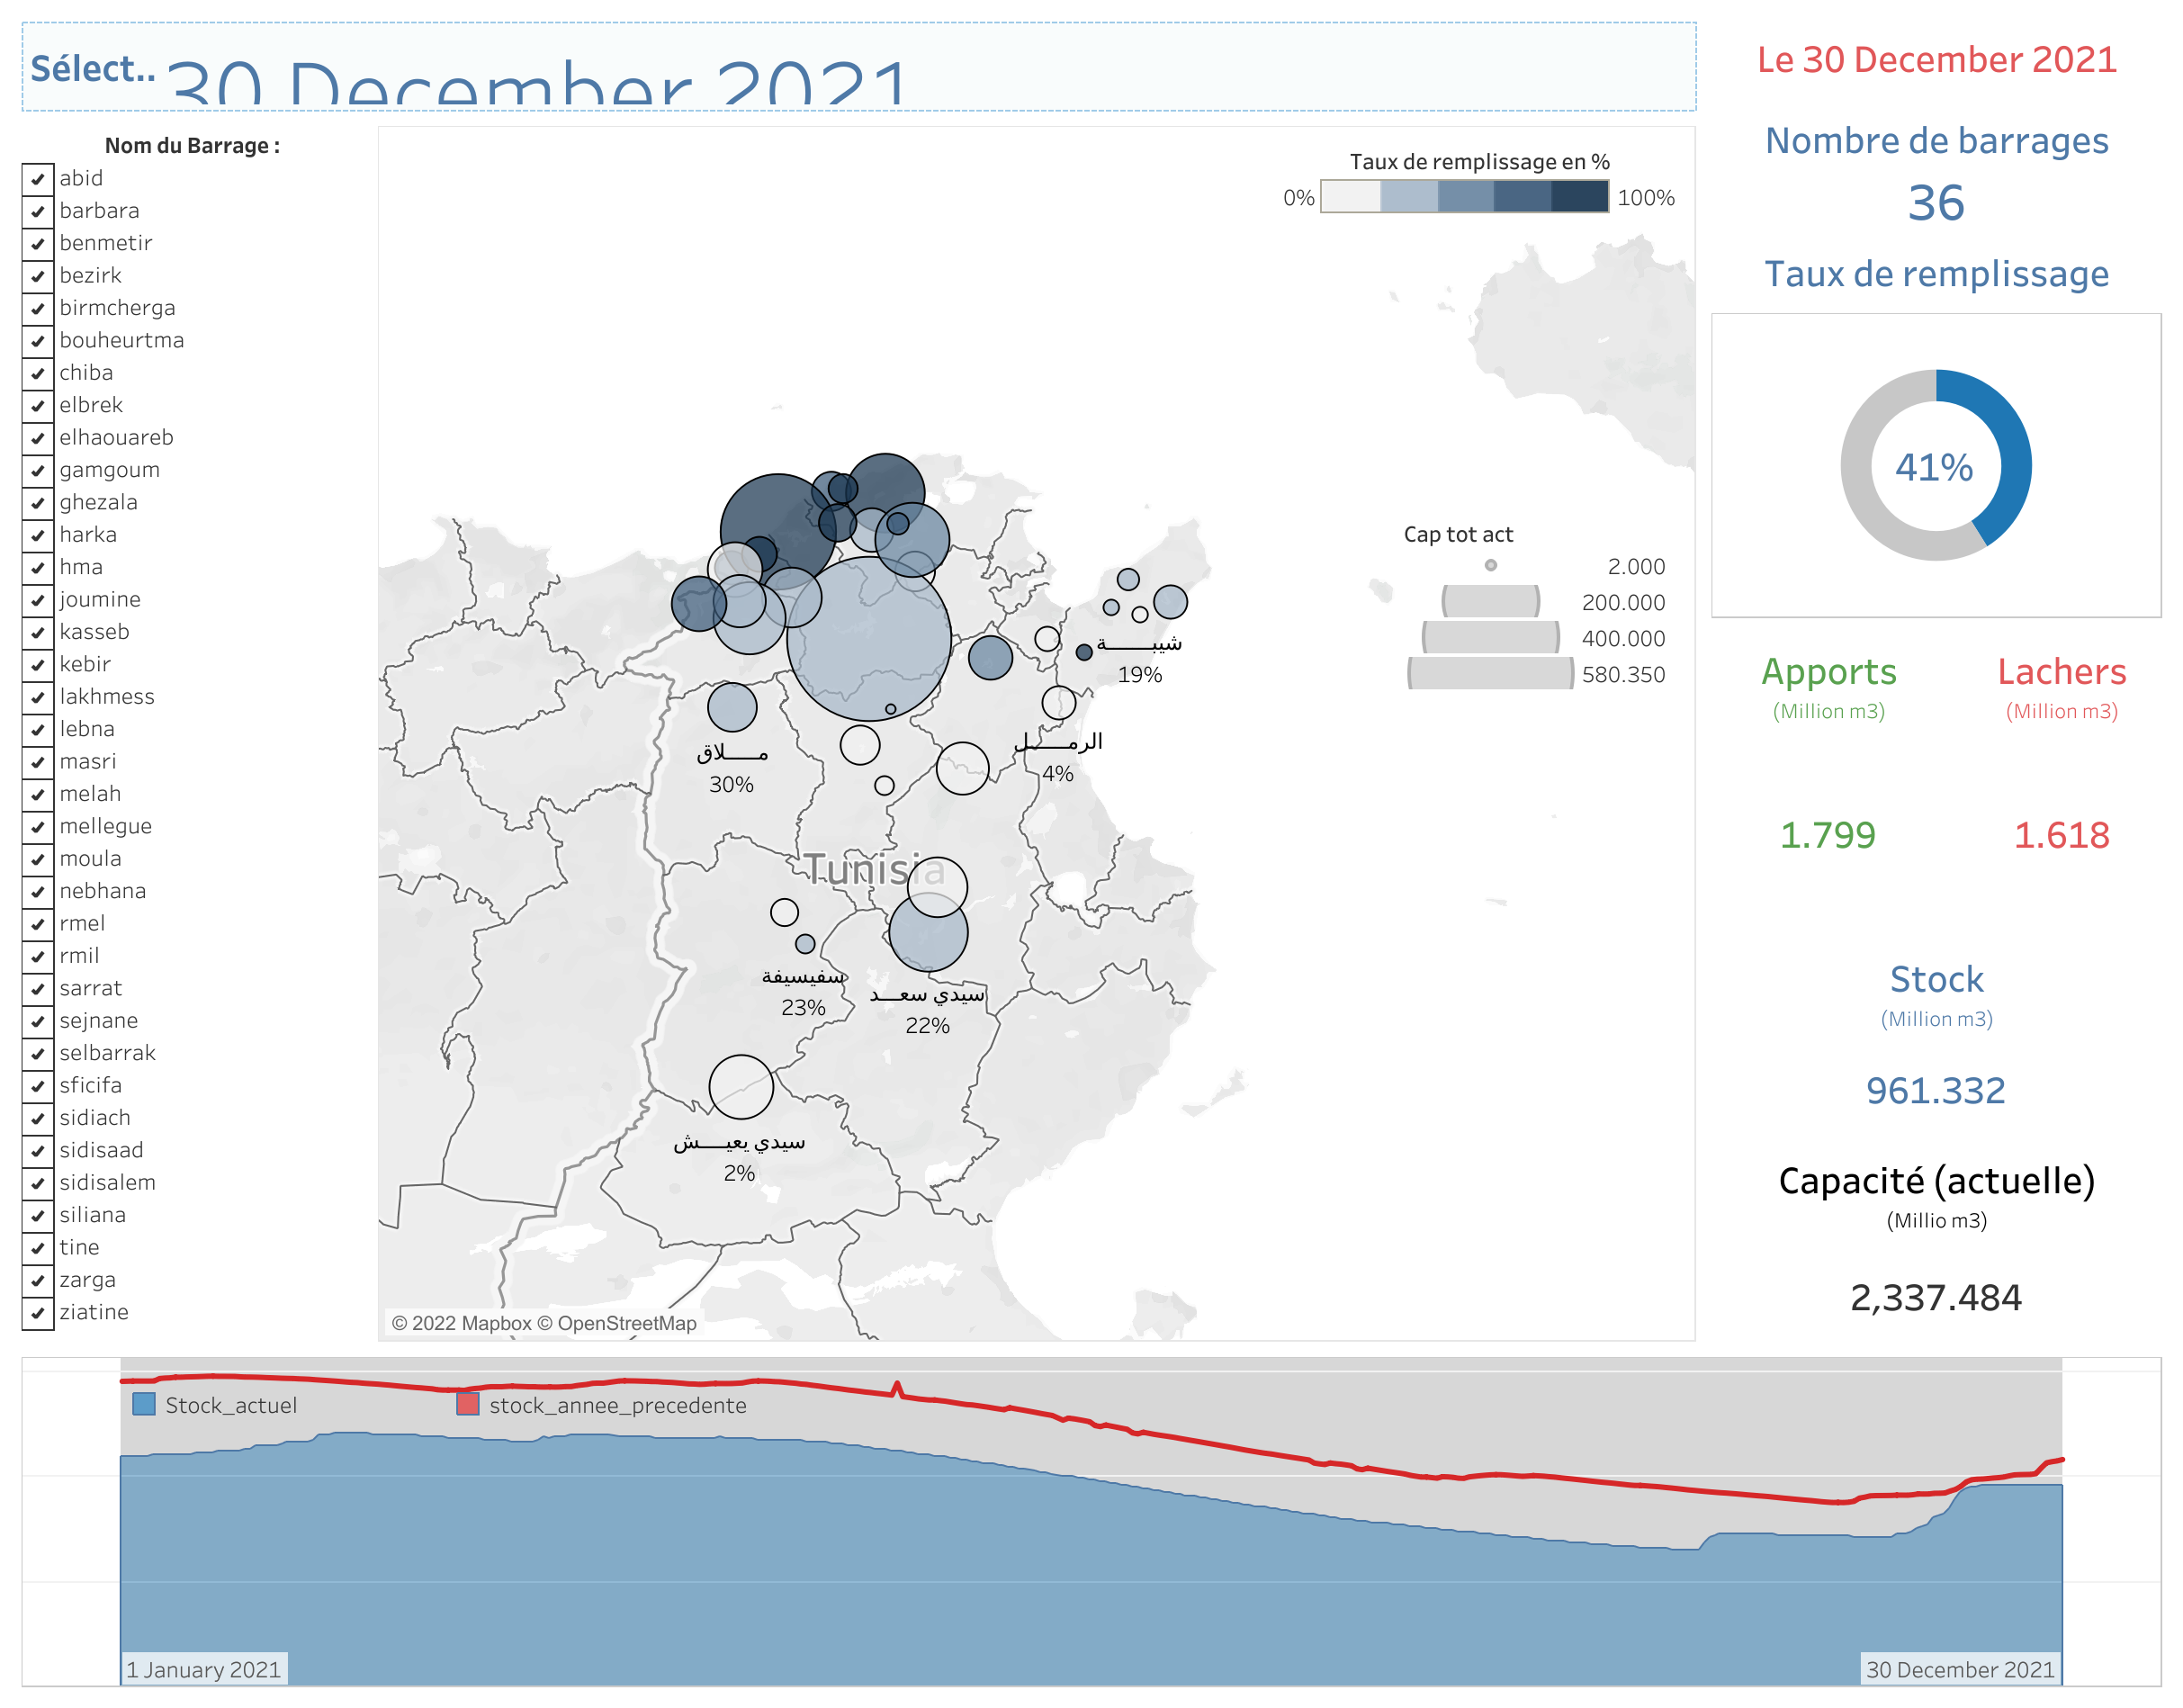

The page's visual inventory and layout, read from the dashboard file:
{"tool":"tableau","page":{"name":"dataViz","canvas":[1000,1000],"units":"permille","ordinal":0},"visuals":[{"type":"filter","title":"Feuille 9","param":"[federated.1tvb3q1153v3pz15prkfi0xzrimz].[md:Date:ok]","box":[6.4,8.4,773.5,60.7]},{"type":"worksheet","title":"Feuille 16","mark":"Automatic","box":[779.9,8.4,213.7,47.2]},{"type":"worksheet","title":"Feuille 8","mark":"Automatic","box":[779.9,55.6,213.7,78.1]},{"type":"filter","title":"Feuille 7","param":"[federated.1tvb3q1153v3pz15prkfi0xzrimz].[none:Nom_Fr:nk]","box":[6.4,69.1,163.1,720.4]},{"type":"worksheet","title":"Feuille 7","mark":"Automatic","rows":["Latitude"],"cols":["Longitude"],"box":[169.5,69.1,610.5,720.4]},{"type":"legend","title":"Feuille 7","param":"[federated.1tvb3q1153v3pz15prkfi0xzrimz].[usr:Calculation_1440307506579656705:qk","box":[583.9,80,187.1,61.1]},{"type":"worksheet","title":"Feuille 14","mark":"Pie","rows":["Calculation_1440307506607996942","1 (copie)"],"box":[779.9,133.7,213.7,232.6]},{"type":"legend","title":"Feuille 7","param":"[federated.1tvb3q1153v3pz15prkfi0xzrimz].[sum:Cap_tot_act:qk]","box":[641.6,300,130.2,156.8]},{"type":"worksheet","title":"Feuille 11","mark":"Automatic","box":[779.9,366.3,114.7,180]},{"type":"worksheet","title":"Feuille 12","mark":"Automatic","box":[894.6,366.3,99,180]},{"type":"worksheet","title":"Feuille 9","mark":"Automatic","box":[779.9,546.3,213.7,117.9]},{"type":"worksheet","title":"Feuille 10","mark":"Automatic","box":[779.9,664.2,213.7,125.3]},{"type":"worksheet","title":"Feuille 2","mark":"Area","rows":["Calculation_646266576773652480","Calculation_646266576773902337"],"cols":["Date"],"box":[6.4,789.5,987.2,202.1]},{"type":"legend","title":"Feuille 2","param":"[federated.1tvb3q1153v3pz15prkfi0xzrimz].[:Measure Names]","box":[57.6,810.5,324,25.3]}]}

Visuals, with their boxes on the dashboard's canvas, which has no fixed pixel size, in thousandths of its width and height (x1, y1, x2, y2). These are canvas units, not pixel positions in the 2183x1708 screenshot, which may show the page scaled, cropped or inside an application window:
"Feuille 9" filter: [x1=6, y1=8, x2=780, y2=69]
"Feuille 16" worksheet: [x1=780, y1=8, x2=994, y2=56]
"Feuille 8" worksheet: [x1=780, y1=56, x2=994, y2=134]
"Feuille 7" filter: [x1=6, y1=69, x2=170, y2=790]
"Feuille 7" worksheet: [x1=170, y1=69, x2=780, y2=790]
"Feuille 7" legend: [x1=584, y1=80, x2=771, y2=141]
"Feuille 14" worksheet (Pie marks): [x1=780, y1=134, x2=994, y2=366]
"Feuille 7" legend: [x1=642, y1=300, x2=772, y2=457]
"Feuille 11" worksheet: [x1=780, y1=366, x2=895, y2=546]
"Feuille 12" worksheet: [x1=895, y1=366, x2=994, y2=546]
"Feuille 9" worksheet: [x1=780, y1=546, x2=994, y2=664]
"Feuille 10" worksheet: [x1=780, y1=664, x2=994, y2=790]
"Feuille 2" worksheet (Area marks): [x1=6, y1=790, x2=994, y2=992]
"Feuille 2" legend: [x1=58, y1=810, x2=382, y2=836]
